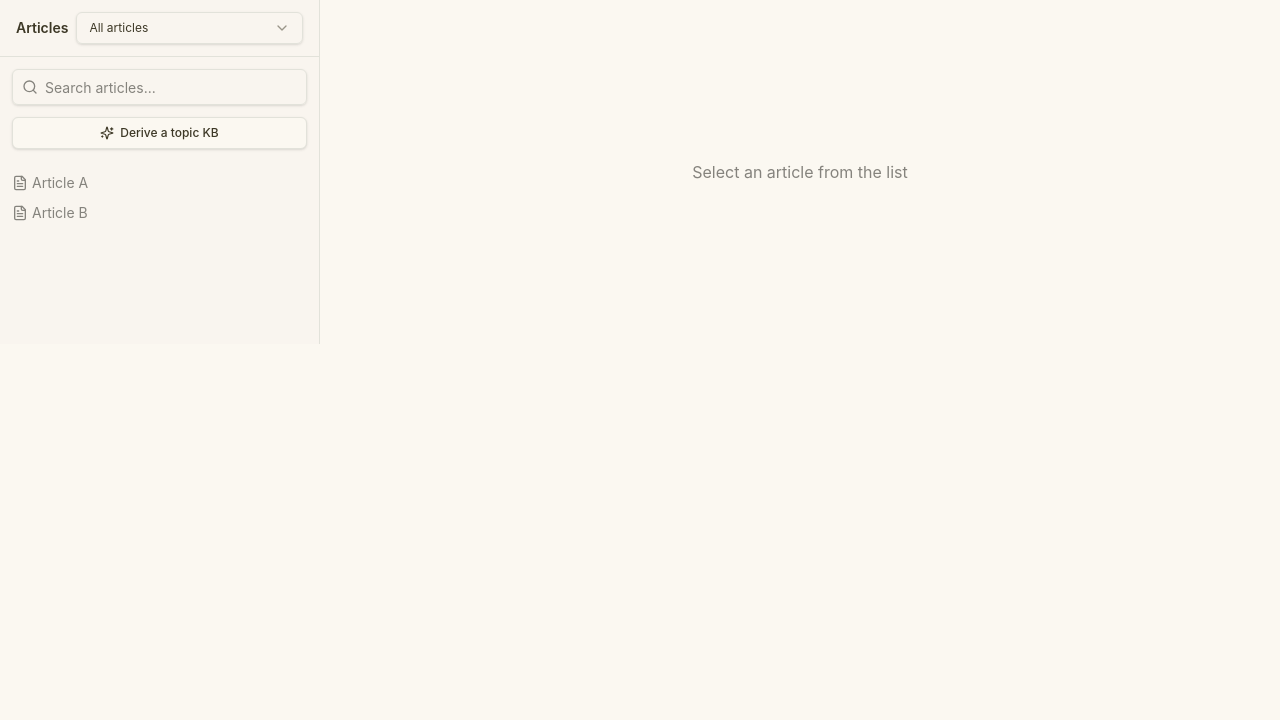
Test: Wiki page › shows a link to builds after starting a derive
Click the button "Derive a topic KB". click: {"x": 160, "y": 133}
box: top-left (12, 117), bottom-right (307, 149)
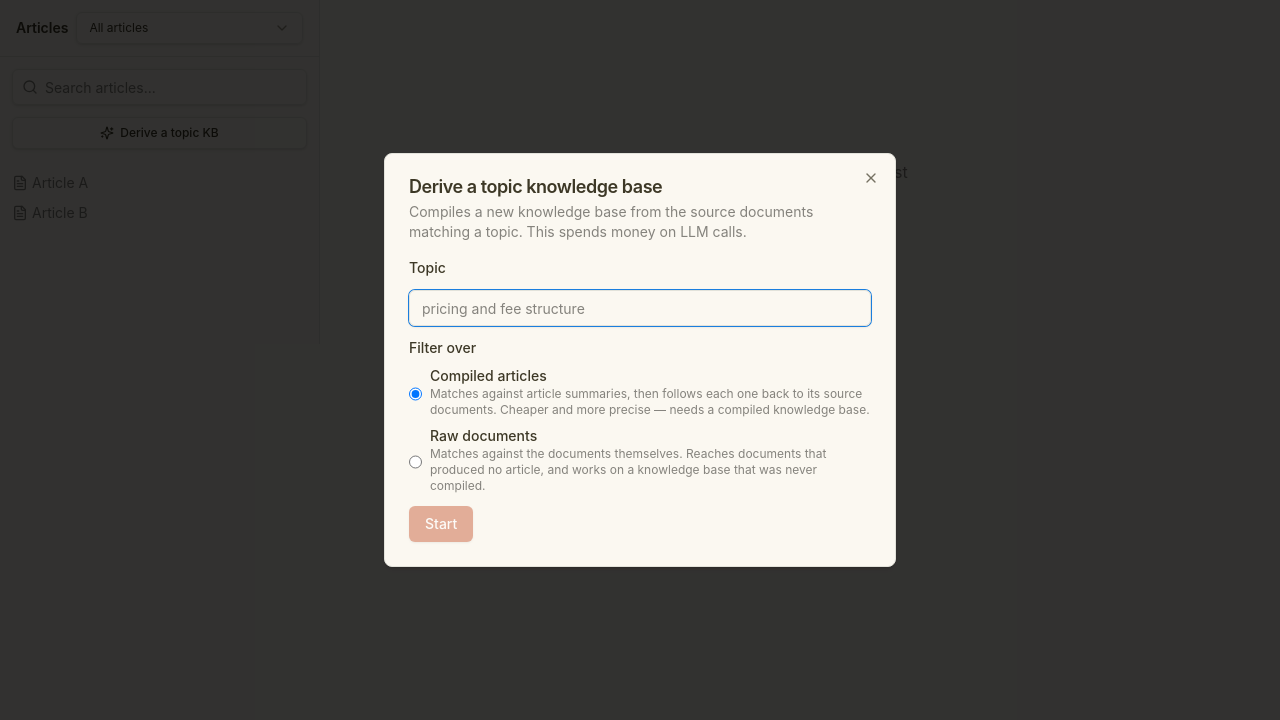
Type "compliance" into the field labelled "Topic". click: {"x": 640, "y": 308}
box: top-left (409, 290), bottom-right (871, 326)
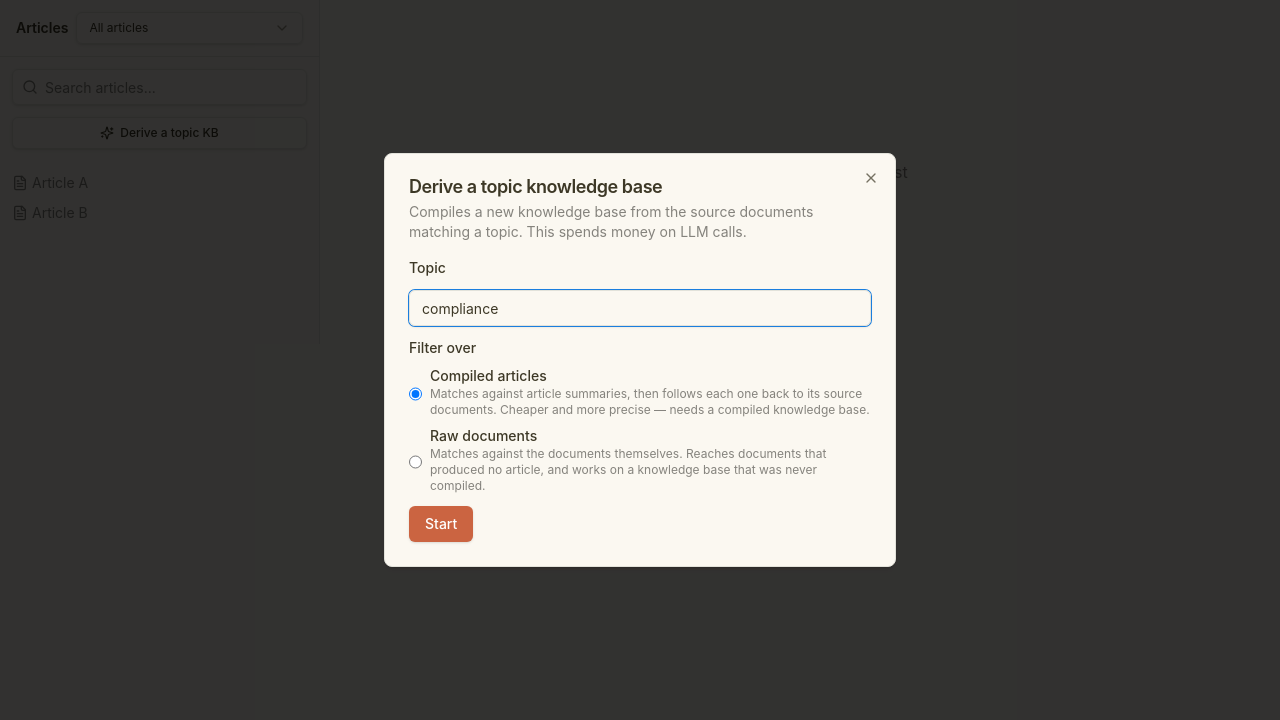
Click the button "Start". click: {"x": 441, "y": 524}
box: top-left (409, 506), bottom-right (473, 542)
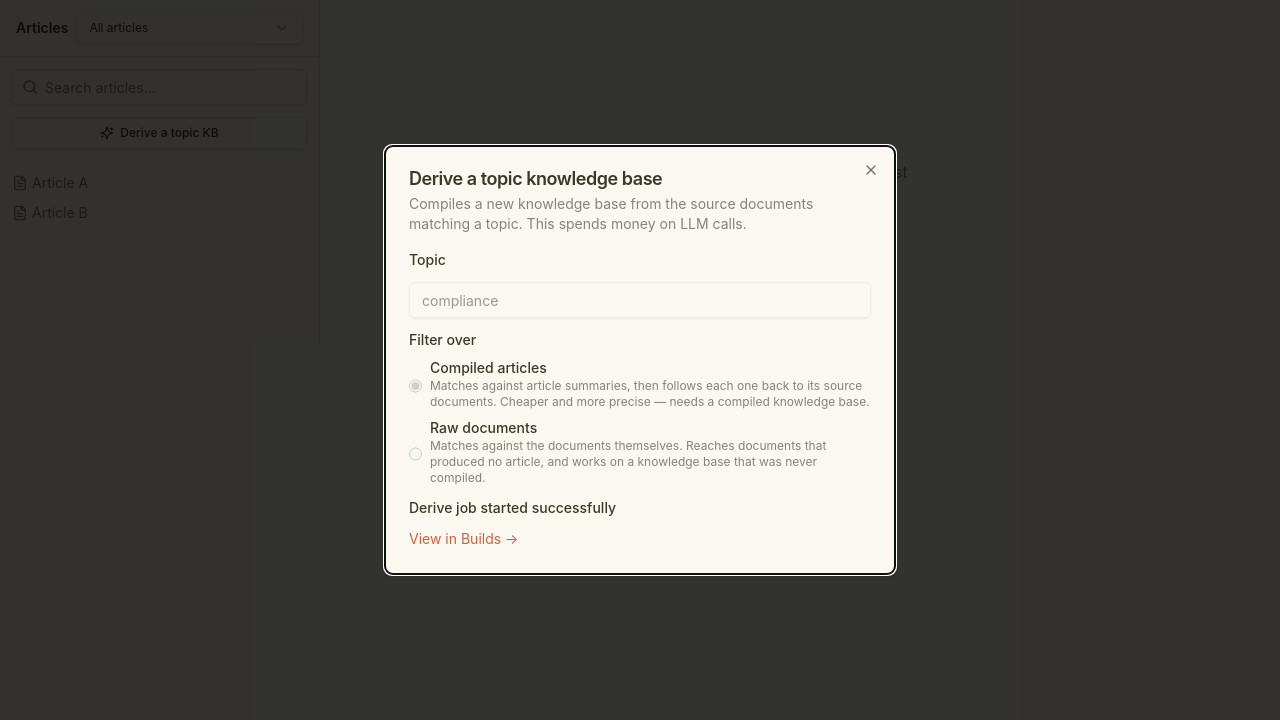
Now the link "View in Builds →" is shown, box top-left (409, 529), bottom-right (518, 549)
